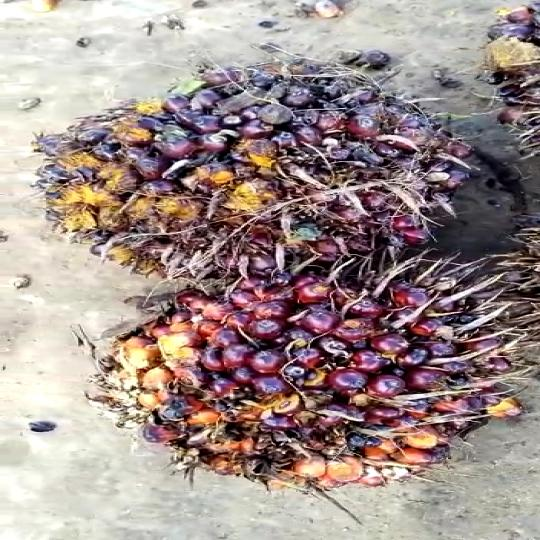masak: (88, 242, 516, 514), (0, 52, 482, 287)
